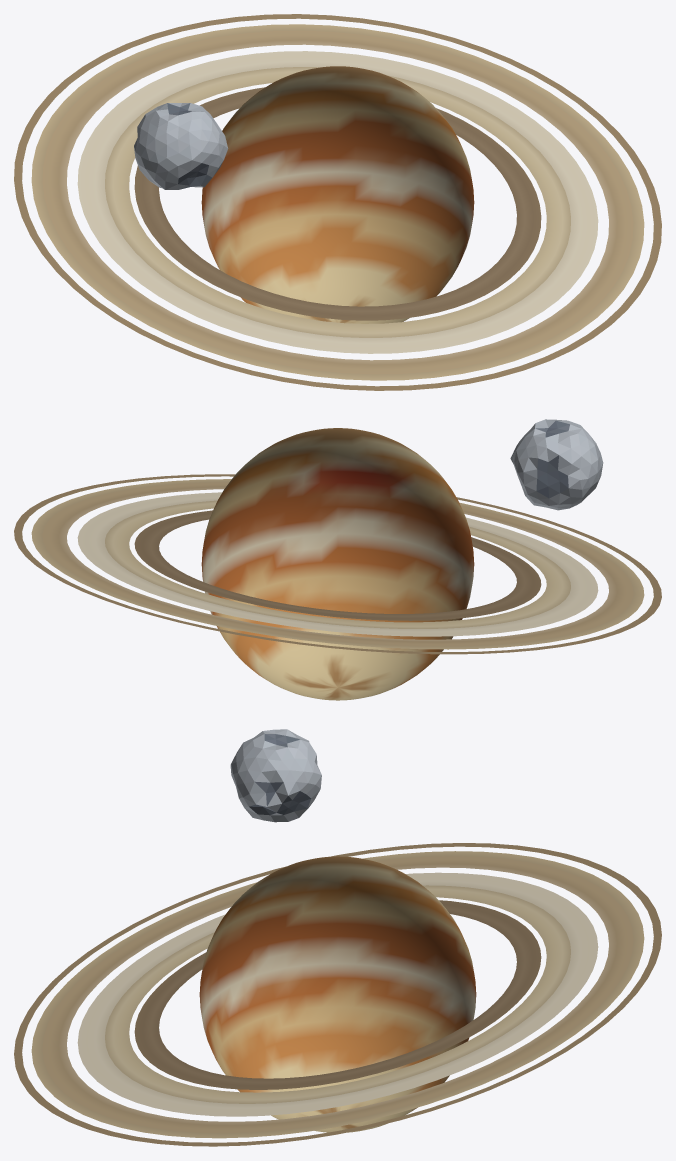
The model's file is planet.glb.
The picture shows the model from 3 angles, top to bottom: view 1: azimuth 30°, elevation 25°; view 2: azimuth 150°, elevation 25°; view 3: azimuth 270°, elevation 25°; orthographic projection.
Visible parts, largest first — view 1: planet; view 2: planet; view 3: planet.
Part boxes in pixels (x1,y1,x2,y2): planet: [14, 14, 661, 390]; planet: [14, 419, 661, 700]; planet: [14, 729, 661, 1146].
Size of the model in its own units: 4.78 by 2.31 by 4.68.
